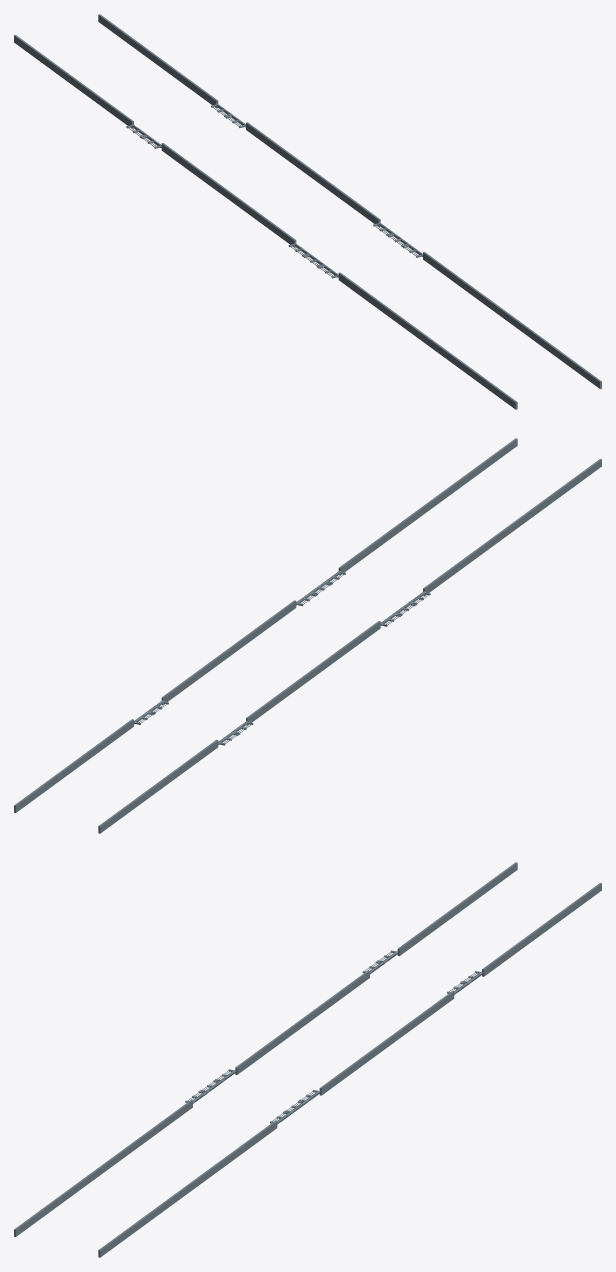
Rendered from MandelaBridge_Barriers.fbx.
The picture shows the model from 3 angles, top to bottom: view 1: azimuth 30°, elevation 25°; view 2: azimuth 150°, elevation 25°; view 3: azimuth 330°, elevation 25°; orthographic projection.
Bounding box in the file's own units: 16.06 × 1.2 × 151.
